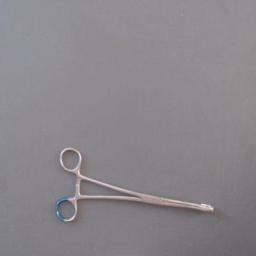Sponge Forceps: (52, 143, 220, 229)
